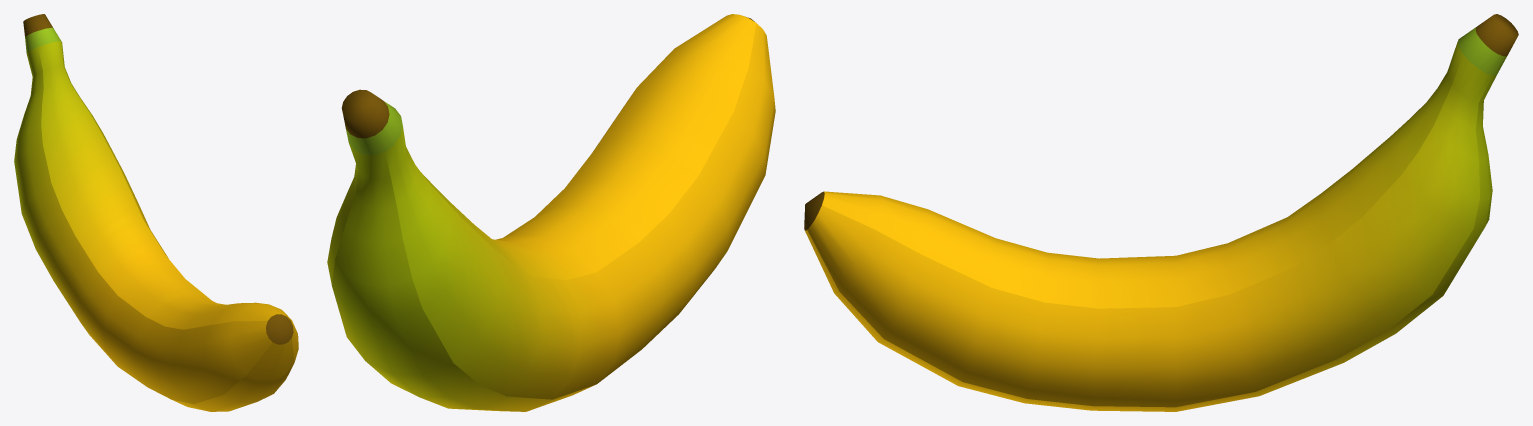
Rendered from Banana.fbx.
The picture shows the model from 3 angles, left to right: view 1: azimuth 30°, elevation 25°; view 2: azimuth 150°, elevation 25°; view 3: azimuth 270°, elevation 25°; orthographic projection. The views are drawn at different scales.
Visible parts, largest first — view 1: Banana; view 2: Banana; view 3: Banana.
Boxes of the visible parts, box(x1,y1,x2,y2) form: Banana: box(14, 14, 298, 411); Banana: box(327, 14, 775, 411); Banana: box(804, 14, 1518, 411).
Size of the model in its own units: 0.8847 by 2.37 by 3.95.
Materials: 1 (1 with a texture image).
